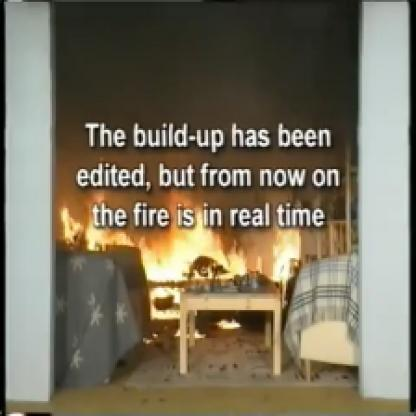fire: (147, 203, 247, 293), (52, 191, 148, 272), (257, 212, 329, 287), (205, 302, 260, 336)
